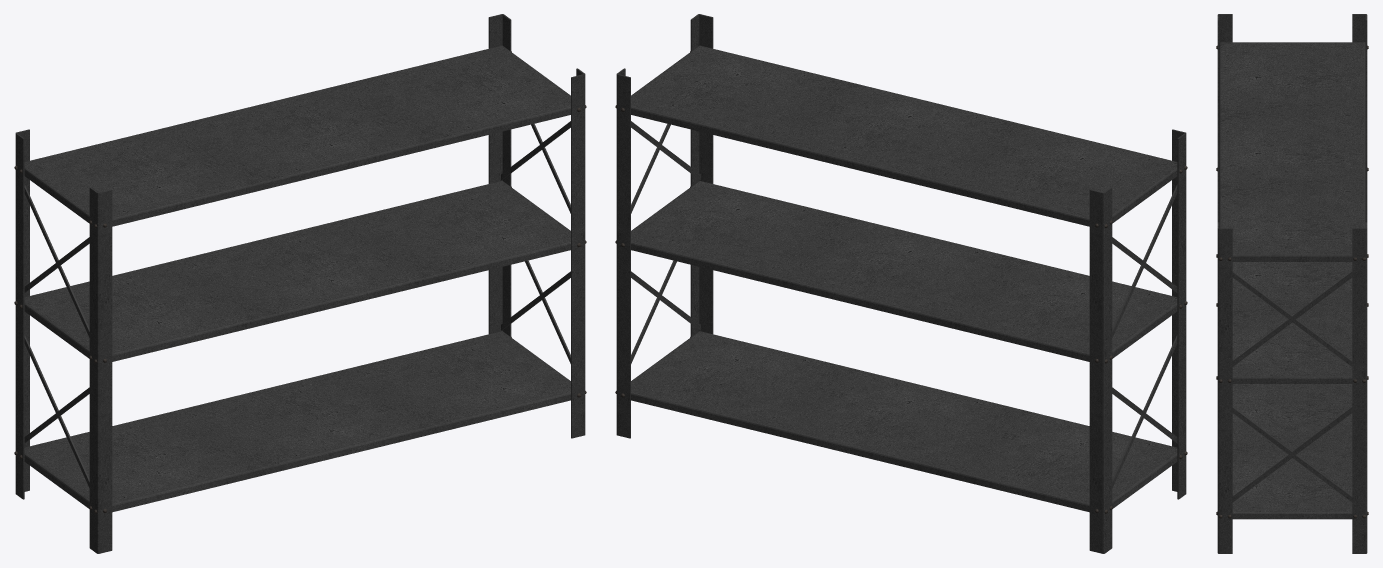
The model's file is metal_shelf_2.glb.
3 renders of one model, left to right at view 1: azimuth 30°, elevation 25°; view 2: azimuth 150°, elevation 25°; view 3: azimuth 270°, elevation 25°, orthographic. The views are drawn at different scales.
Parts seen in each view (by area): view 1: metal_shelf_2; view 2: metal_shelf_2; view 3: metal_shelf_2.
Boxes of the visible parts, left/top/right/bottom form: metal_shelf_2: left=14, top=14, right=586, bottom=553; metal_shelf_2: left=615, top=14, right=1187, bottom=553; metal_shelf_2: left=1216, top=14, right=1368, bottom=553.
Size of the model in its own units: 3.42 by 2.4 by 1.02.
Materials: 2 (2 with a texture image).
